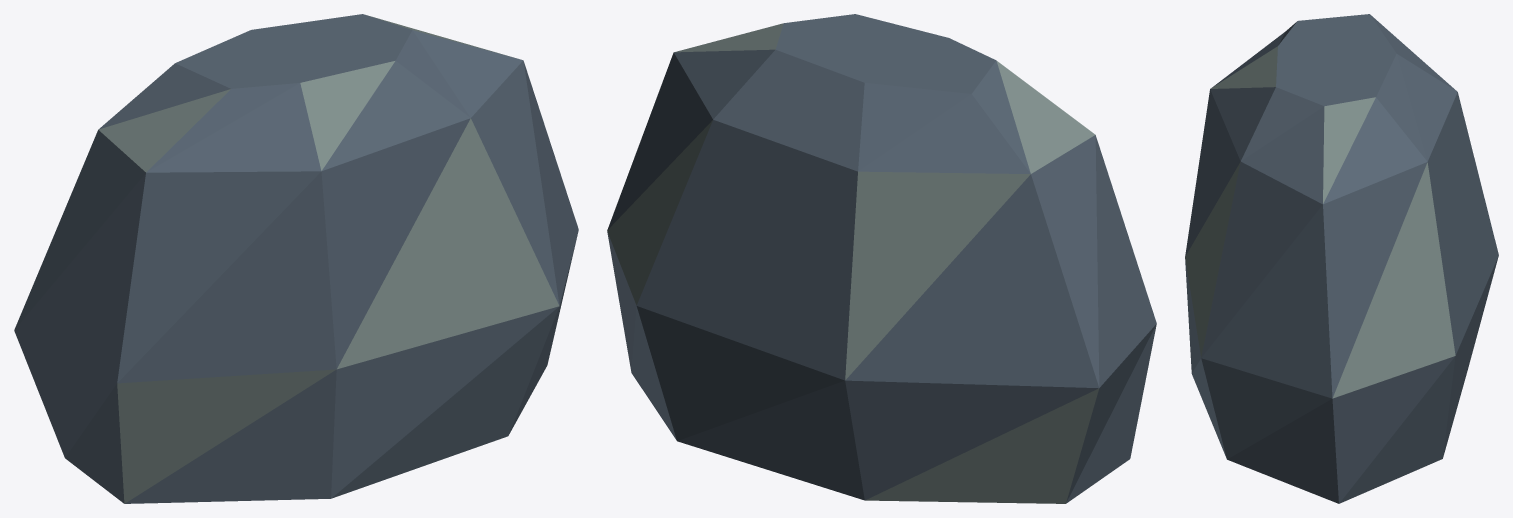
The model's file is cliff_step.glb.
3 renders of one model, left to right at view 1: azimuth 30°, elevation 25°; view 2: azimuth 150°, elevation 25°; view 3: azimuth 270°, elevation 25°, orthographic. The views are drawn at different scales.
Visible parts, largest first — view 1: cliff_step; view 2: cliff_step; view 3: cliff_step.
Part boxes in pixels (box(x1,y1,x2,y2)): cliff_step: box(14, 14, 578, 503); cliff_step: box(607, 14, 1156, 503); cliff_step: box(1185, 14, 1498, 503).
Bounding box in the file's own units: 5.86 × 4 × 3.39.
